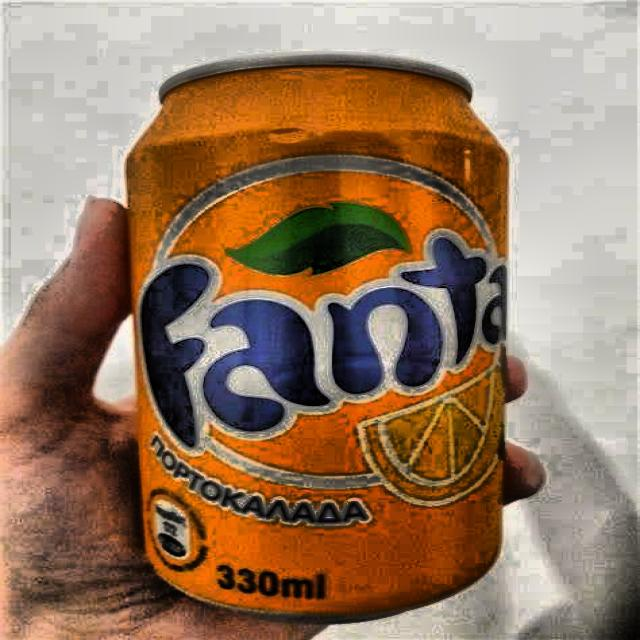Cans: (95, 31, 570, 628)
